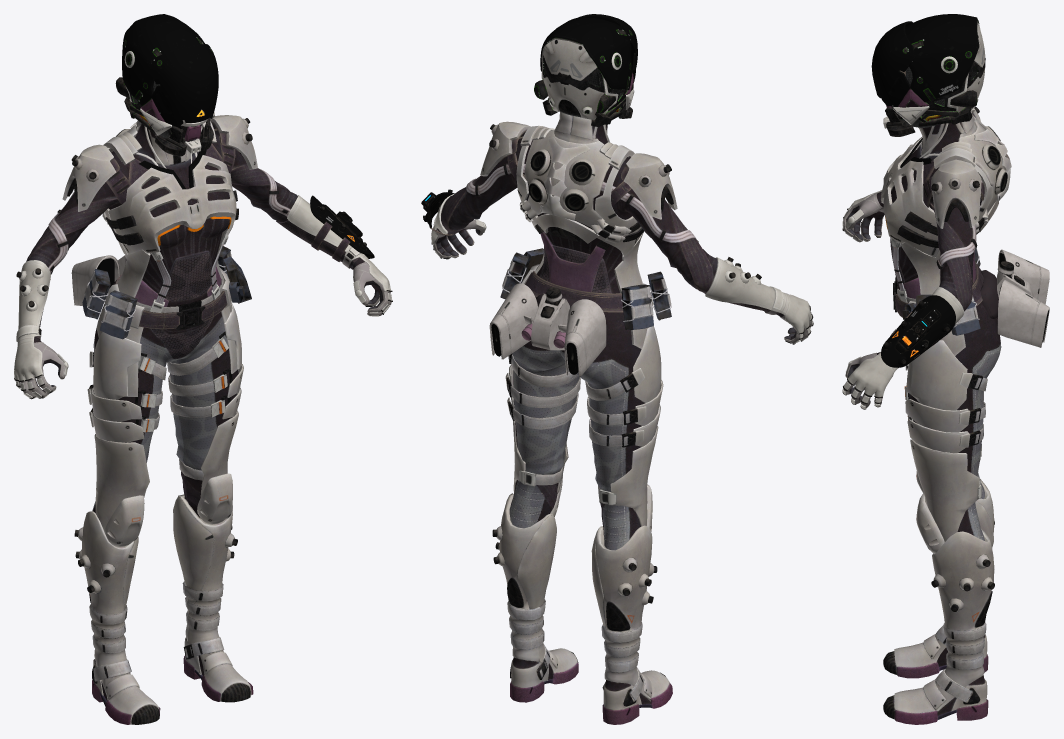
Rendered from wraith.glb.
3 renders of one model, left to right at view 1: azimuth 30°, elevation 25°; view 2: azimuth 150°, elevation 25°; view 3: azimuth 270°, elevation 25°, orthographic.
Visible parts, largest first — view 1: body, helm, gauntlet, jumpkit; view 2: body, helm, jumpkit, gauntlet; view 3: body, helm, gauntlet, jumpkit.
Part boxes in pixels (bbox=[...]): body: bbox=[26, 115, 297, 724]; helm: bbox=[115, 14, 218, 156]; gauntlet: bbox=[14, 195, 392, 399]; jumpkit: bbox=[71, 255, 125, 305]; body: bbox=[441, 112, 717, 724]; helm: bbox=[534, 14, 637, 126]; jumpkit: bbox=[489, 283, 606, 376]; gauntlet: bbox=[421, 189, 813, 344]; body: bbox=[881, 106, 1011, 724]; helm: bbox=[871, 14, 985, 136]; gauntlet: bbox=[842, 190, 963, 409]; jumpkit: bbox=[980, 249, 1049, 347].
Bounding box in the file's own units: 38.79 × 67.08 × 18.77.
Materials: 6 (6 with a texture image).
